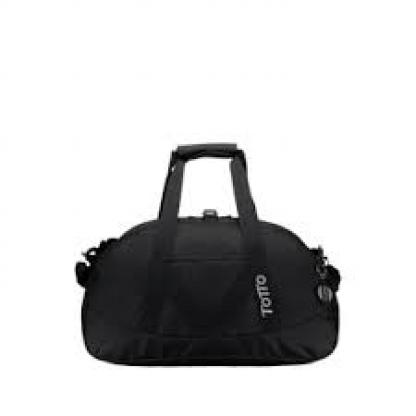morral: (57, 111, 370, 381)
